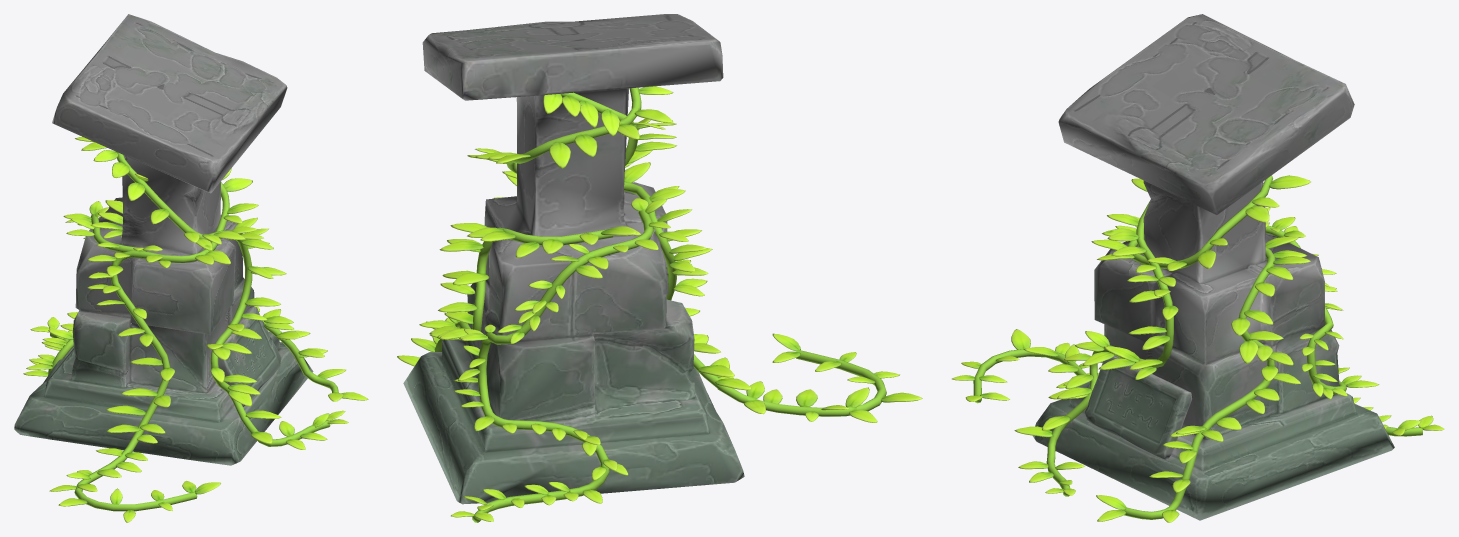
The model's file is pedestal.glb.
3 renders of one model, left to right at view 1: azimuth 30°, elevation 25°; view 2: azimuth 150°, elevation 25°; view 3: azimuth 270°, elevation 25°, orthographic. The views are drawn at different scales.
Parts seen in each view (by area): view 1: polySurface7, pasted__pCube221, pasted__pCube222, pasted__pCylinder5, polySurface8, pasted__pCylinder4, polySurface6, pasted__pCube223, pasted__pCylinder3, pasted__pCylinder2; view 2: polySurface7, pasted__pCube221, polySurface6, pasted__pCylinder5, pasted__pCube223, pasted__pCylinder2, pasted__pCube222, pasted__pCylinder3; view 3: polySurface7, polySurface8, pasted__pCube222, pasted__pCube223, pasted__pCube221, polySurface6, pasted__pCylinder3, pasted__pCylinder4, pasted__pCylinder5, pasted__pCylinder2.
Boxes of the visible parts, <box> form: polySurface7: <box>14,14,313,465</box>; pasted__pCube221: <box>49,136,258,522</box>; pasted__pCube222: <box>93,150,348,449</box>; pasted__pCylinder5: <box>74,181,229,511</box>; polySurface8: <box>210,306,281,406</box>; pasted__pCylinder4: <box>116,151,330,446</box>; polySurface6: <box>23,201,162,376</box>; pasted__pCube223: <box>91,200,368,401</box>; pasted__pCylinder3: <box>121,230,338,392</box>; pasted__pCylinder2: <box>48,214,146,375</box>; polySurface7: <box>403,14,744,504</box>; pasted__pCube221: <box>467,86,922,422</box>; polySurface6: <box>451,198,670,521</box>; pasted__pCylinder5: <box>506,87,886,416</box>; pasted__pCube223: <box>397,223,641,366</box>; pasted__pCylinder2: <box>472,209,653,522</box>; pasted__pCube222: <box>493,94,676,198</box>; pasted__pCylinder3: <box>434,227,613,351</box>; polySurface7: <box>1032,14,1394,520</box>; polySurface8: <box>1085,355,1192,460</box>; pasted__pCube222: <box>1014,178,1178,495</box>; pasted__pCube223: <box>1096,222,1310,522</box>; pasted__pCube221: <box>952,175,1310,401</box>; polySurface6: <box>1266,207,1444,435</box>; pasted__pCylinder3: <box>1122,247,1275,519</box>; pasted__pCylinder4: <box>1046,200,1173,496</box>; pasted__pCylinder5: <box>973,175,1272,403</box>; pasted__pCylinder2: <box>1265,225,1422,436</box>.
Bounding box in the file's own units: 1.55 × 1.4 × 1.68.
Materials: 1 (1 with a texture image).
